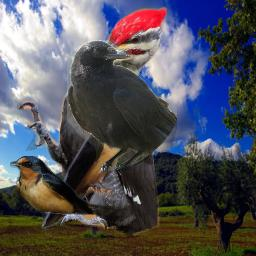Crow: (67, 40, 177, 171)
Swallow: (42, 108, 125, 231), (10, 156, 128, 215)
Woodpecker: (17, 7, 167, 237)
